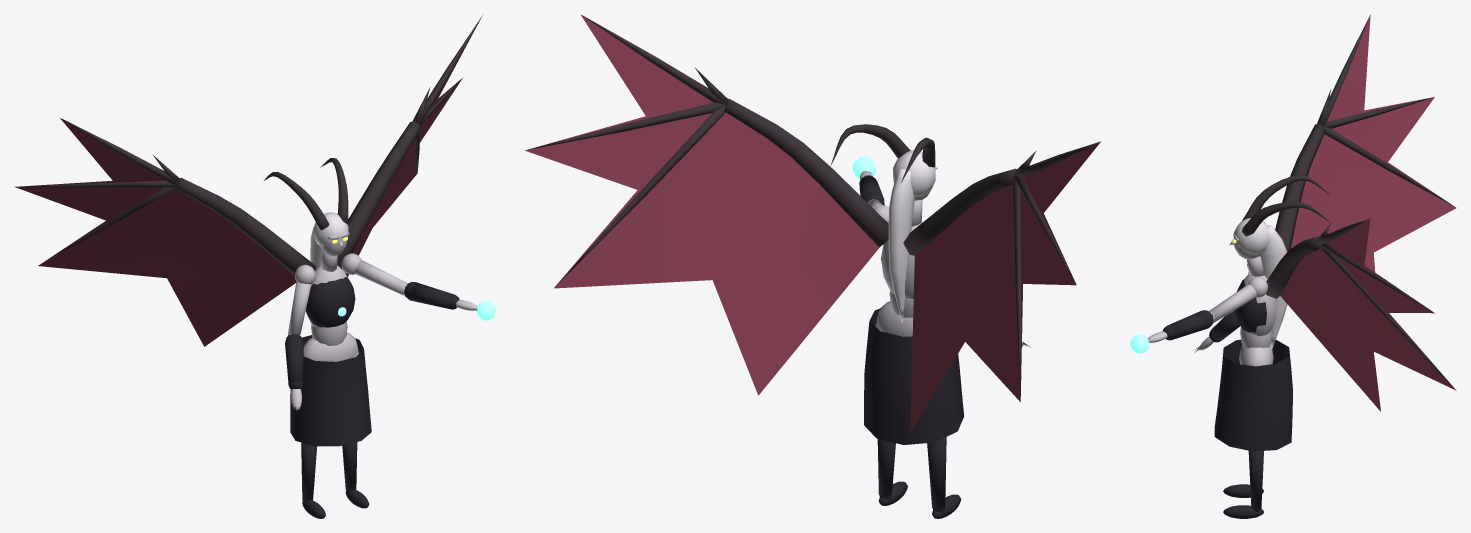
The model's file is succubus.glb.
The picture shows the model from 3 angles, left to right: view 1: azimuth 30°, elevation 25°; view 2: azimuth 150°, elevation 25°; view 3: azimuth 270°, elevation 25°; orthographic projection. The views are drawn at different scales.
Visible parts, largest first — view 1: torso, pelvis, head, upperarm_R, upperarm_L, forearm_L, forearm_R, shin_R, shin_L; view 2: torso, pelvis, head, shin_R, shin_L; view 3: torso, pelvis, head, upperarm_L, forearm_L, shin_L, forearm_R, hand_L, foot_L.
Part boxes in pixels (box(x1,y1,x2,y2)): torso: box(14, 15, 482, 346); pelvis: box(290, 332, 371, 446); head: box(264, 158, 349, 270); upperarm_R: box(288, 264, 315, 335); upperarm_L: box(341, 253, 407, 294); forearm_L: box(402, 282, 459, 309); forearm_R: box(285, 334, 303, 389); shin_R: box(301, 442, 317, 503); shin_L: box(342, 442, 357, 492); torso: box(525, 14, 1100, 432); pelvis: box(864, 301, 964, 444); head: box(830, 124, 937, 323); shin_R: box(927, 437, 946, 512); shin_L: box(877, 439, 895, 499); torso: box(1235, 14, 1456, 411); pelvis: box(1214, 339, 1292, 451); head: box(1229, 175, 1330, 348); upperarm_L: box(1209, 276, 1268, 322); forearm_L: box(1163, 310, 1215, 340); shin_L: box(1248, 451, 1263, 511); forearm_R: box(1209, 310, 1240, 342); hand_L: box(1130, 331, 1167, 353); foot_L: box(1223, 505, 1263, 518).
Bounding box in the file's own units: 3.15 × 2.66 × 2.01.
